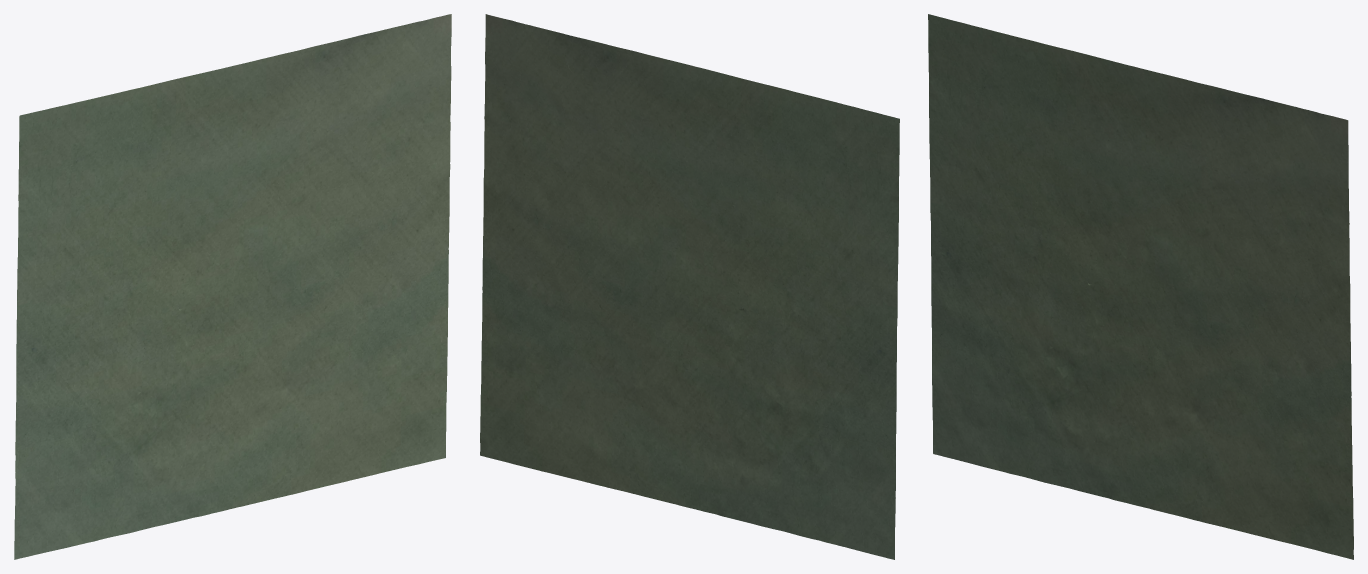
Rendered from Tile_+016_+006.fbx.
3 renders of one model, left to right at view 1: azimuth 30°, elevation 25°; view 2: azimuth 150°, elevation 25°; view 3: azimuth 330°, elevation 25°, orthographic. The views are drawn at different scales.
Parts seen in each view (by area): view 1: DefaultName; view 2: DefaultName; view 3: DefaultName.
Part boxes in pixels (x1=…): DefaultName: x1=14, y1=14, x2=451, y2=559; DefaultName: x1=480, y1=14, x2=899, y2=559; DefaultName: x1=928, y1=14, x2=1353, y2=559.
Size of the model in its own units: 22.54 by 22.54 by 0.8412.
